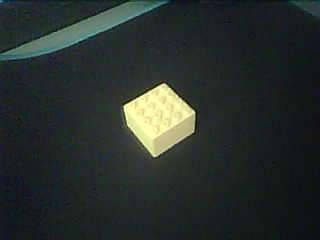lego: (124, 83, 195, 158)
